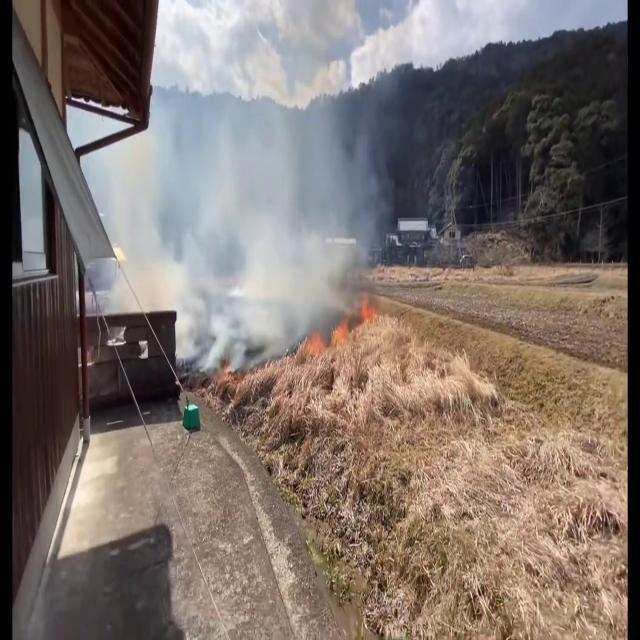Fire: (294, 259, 397, 371)
Smoke: (138, 38, 392, 387)
